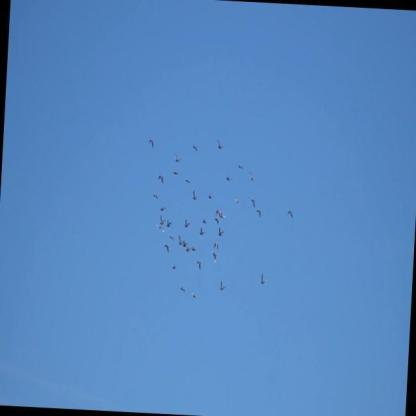bird: (209, 248, 218, 263), (247, 196, 256, 210), (216, 137, 224, 150), (219, 207, 227, 220), (193, 189, 200, 202), (159, 213, 166, 226), (220, 279, 227, 292), (174, 152, 182, 163), (218, 226, 226, 237), (199, 226, 207, 237), (177, 235, 184, 247), (160, 204, 168, 214), (183, 218, 191, 228), (261, 272, 267, 285), (156, 225, 164, 234), (148, 139, 155, 149), (248, 171, 255, 181), (166, 219, 173, 229), (196, 261, 203, 271), (191, 290, 198, 300), (287, 209, 293, 220), (183, 239, 189, 250), (192, 144, 199, 153), (256, 208, 262, 218), (157, 175, 164, 183), (152, 193, 159, 201), (214, 243, 221, 251), (180, 285, 187, 293), (207, 191, 212, 201), (214, 217, 219, 227), (225, 174, 231, 182), (234, 198, 240, 206), (202, 219, 208, 227), (169, 234, 175, 242), (163, 244, 169, 252), (171, 263, 177, 271), (185, 246, 191, 253), (215, 207, 220, 215), (191, 245, 196, 253), (239, 164, 245, 170), (173, 170, 179, 176), (185, 178, 191, 184)
